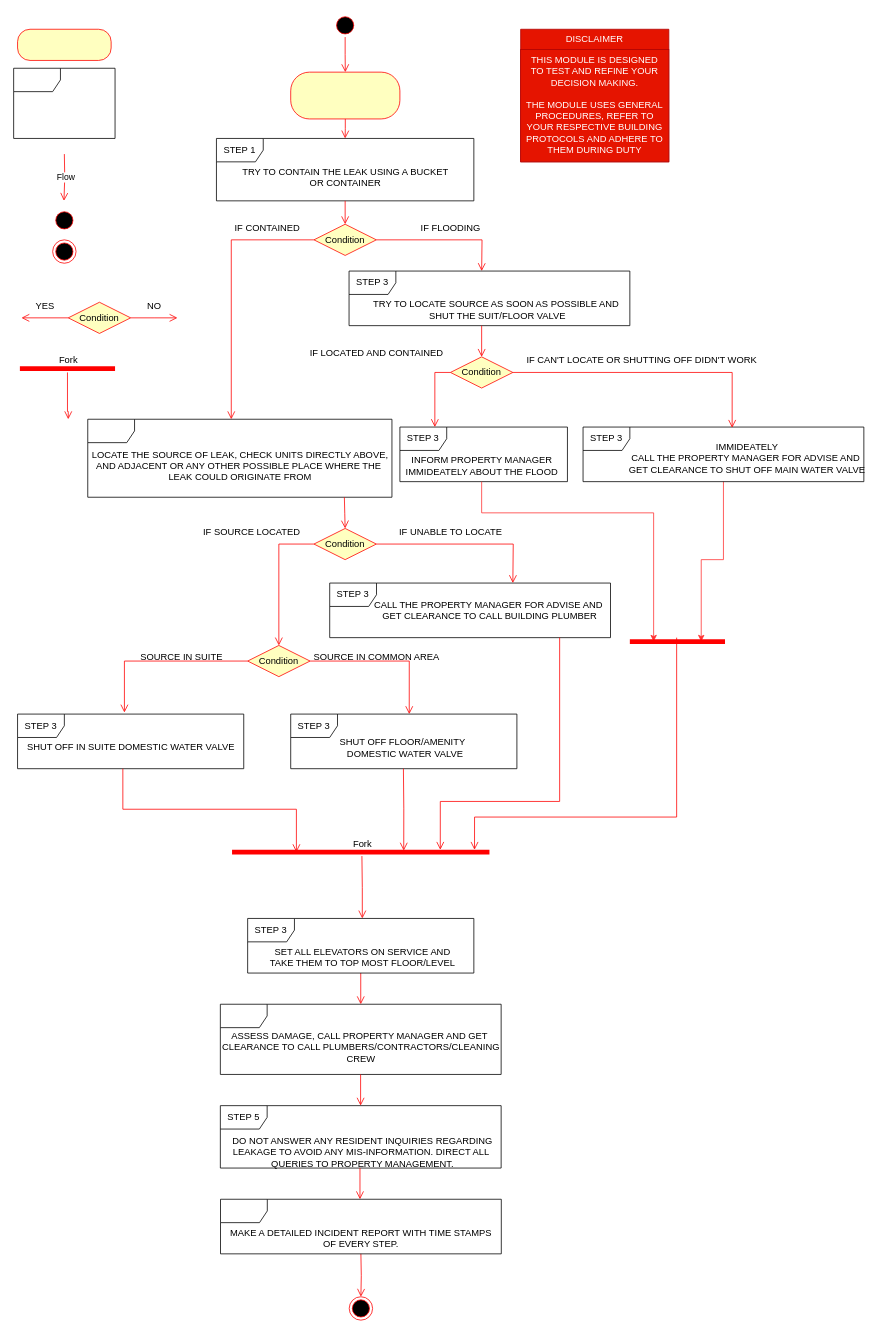
Image size: 889x1334. Some labels were removed from this diagram. Each missing label, with the box of its shape:
End Point: (52, 239, 76, 263)
IN SUITE WATER LEAKAGE/FLOOD: (290, 71, 400, 119)
Situation Context: (17, 28, 111, 60)
Start Point: (52, 208, 76, 232)
STEP 2: (87, 418, 392, 497)
STEP 4: (220, 1003, 501, 1074)
STEP 7: (220, 1198, 501, 1254)
STEPS: (13, 67, 115, 138)
